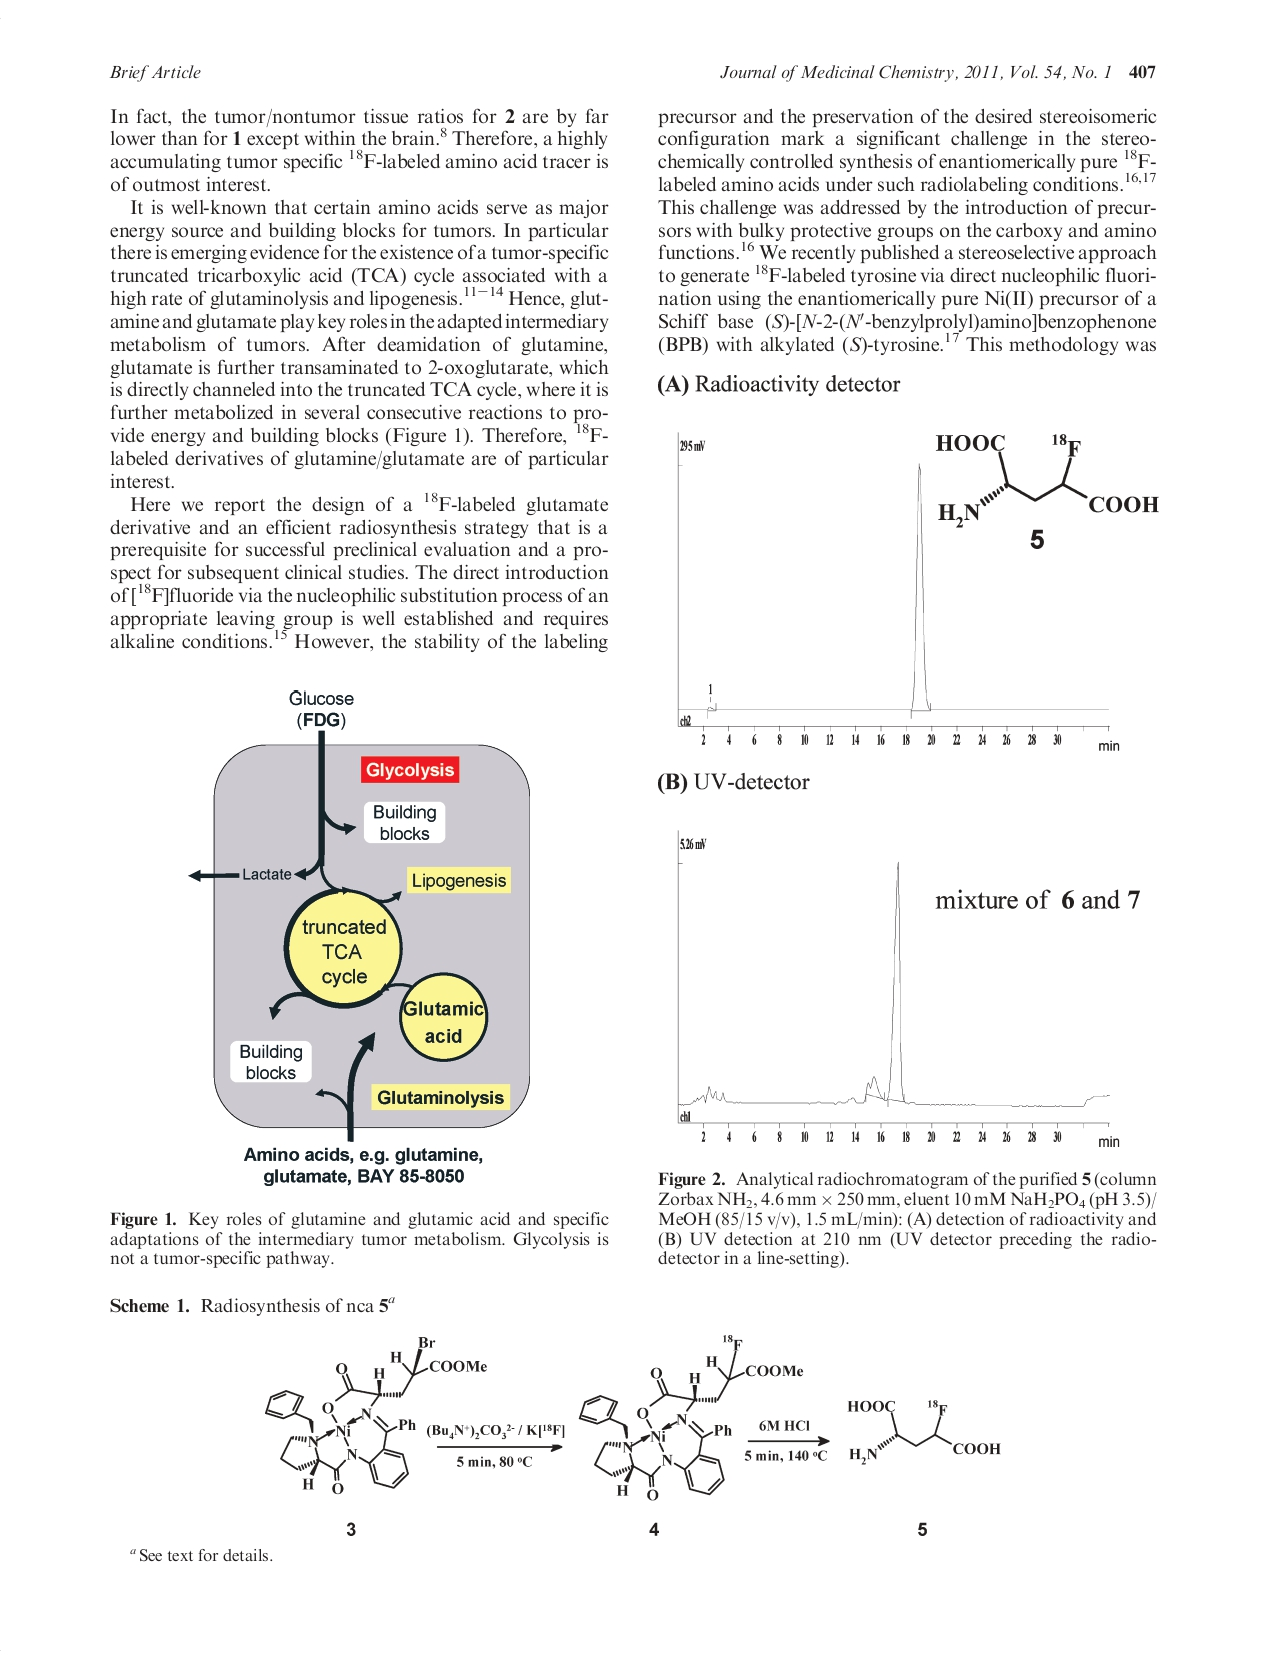exist_molecular: (573, 1333, 805, 1501), (262, 1334, 489, 1495), (930, 424, 1164, 531), (840, 1388, 1005, 1474)
